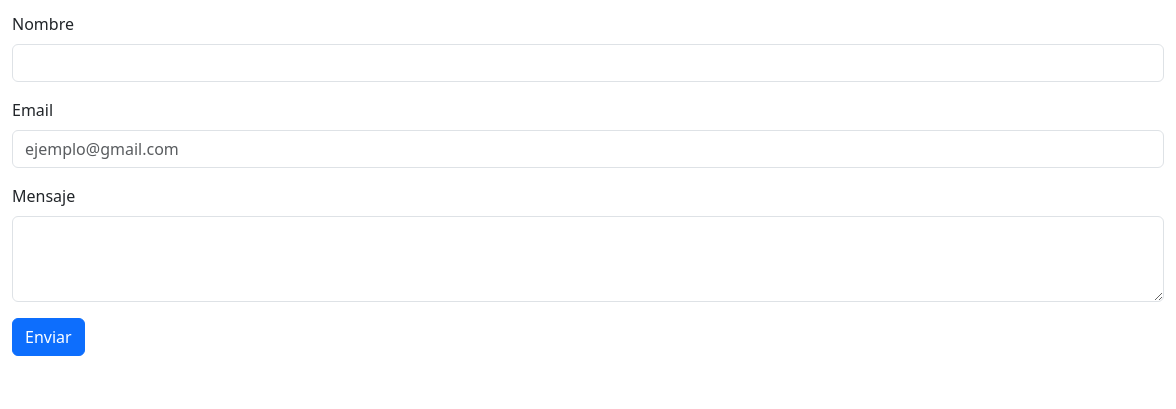
Test: ContactForm Component › valida que el nombre no esté vacío
This screenshot has width=1176, height=409.
Step 1. Type "usuario@duoc.cl" into the field labelled "Email" → (588, 149), box [12, 130, 1164, 168]
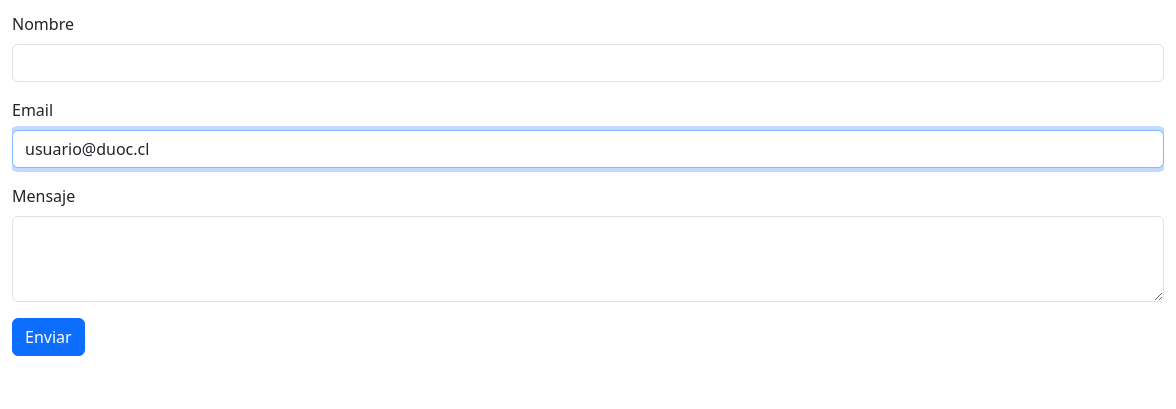
Step 2. Type "Mensaje de prueba" into the text box labelled "Mensaje" → (588, 259), box [12, 216, 1164, 302]
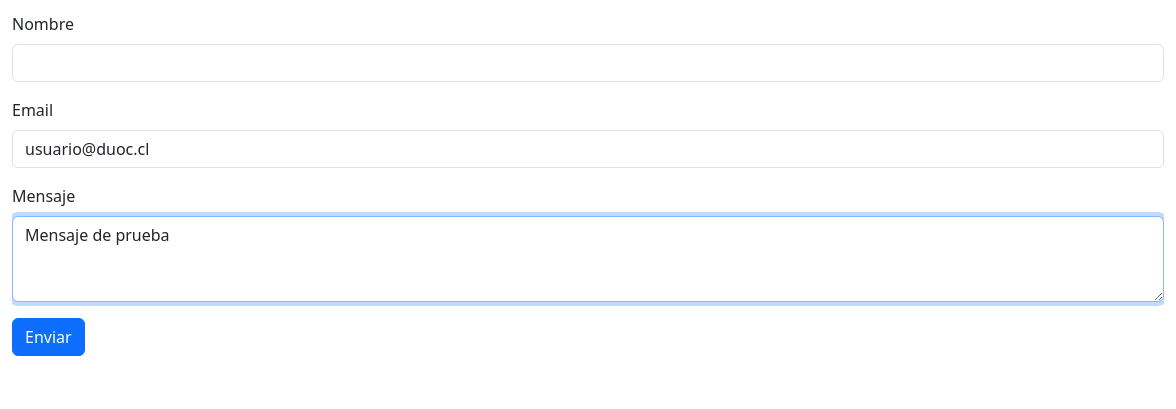
Step 3. Click the button "Enviar" → click(48, 337), box [12, 318, 85, 356]
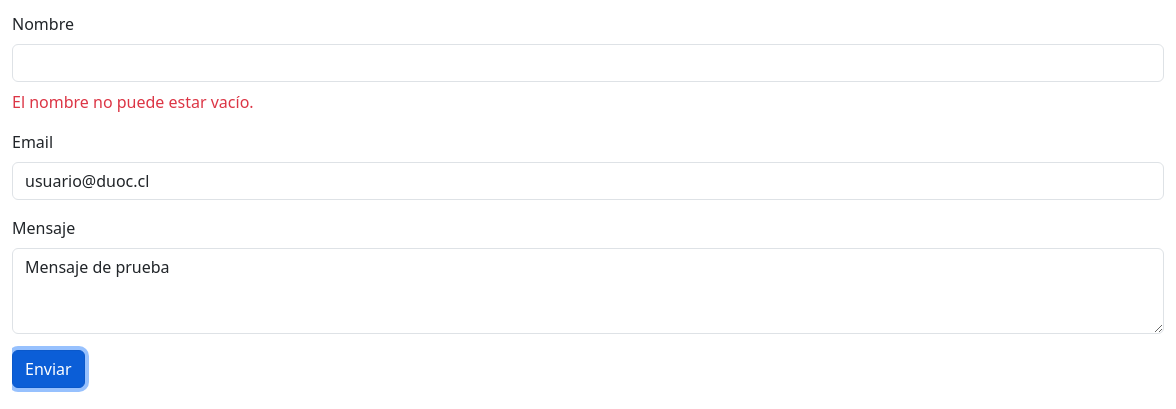
Result: the text "El nombre no puede estar vacío." is shown at [12, 91, 254, 113]
